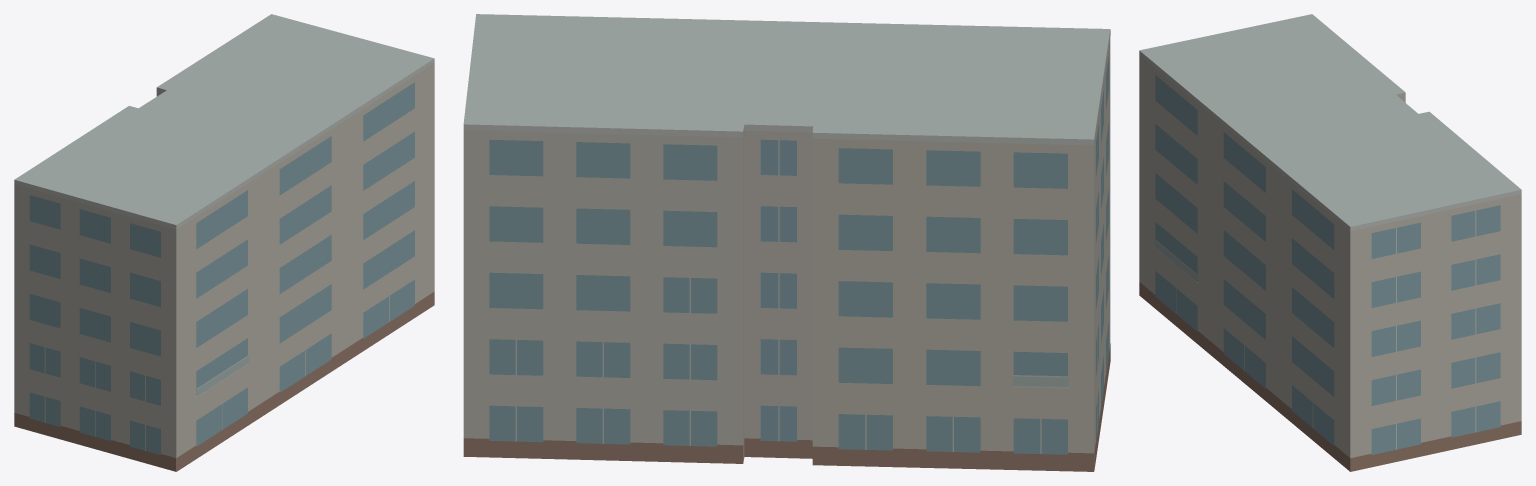
Rendered from survey-upis-32978699.glb.
3 views of the same model, side by side, from view 1: azimuth 30°, elevation 25°; view 2: azimuth 150°, elevation 25°; view 3: azimuth 270°, elevation 25° (orthographic). The views are drawn at different scales.
Parts seen in each view (by area): view 1: survey-upis-32978699.tmp; view 2: survey-upis-32978699.tmp; view 3: survey-upis-32978699.tmp.
Part boxes in pixels (x1,y1,x2,y2): survey-upis-32978699.tmp: (14, 14, 434, 471); survey-upis-32978699.tmp: (463, 14, 1110, 471); survey-upis-32978699.tmp: (1139, 14, 1521, 471).
Bounding box in the file's own units: 25.37 × 13.6 × 19.25.
